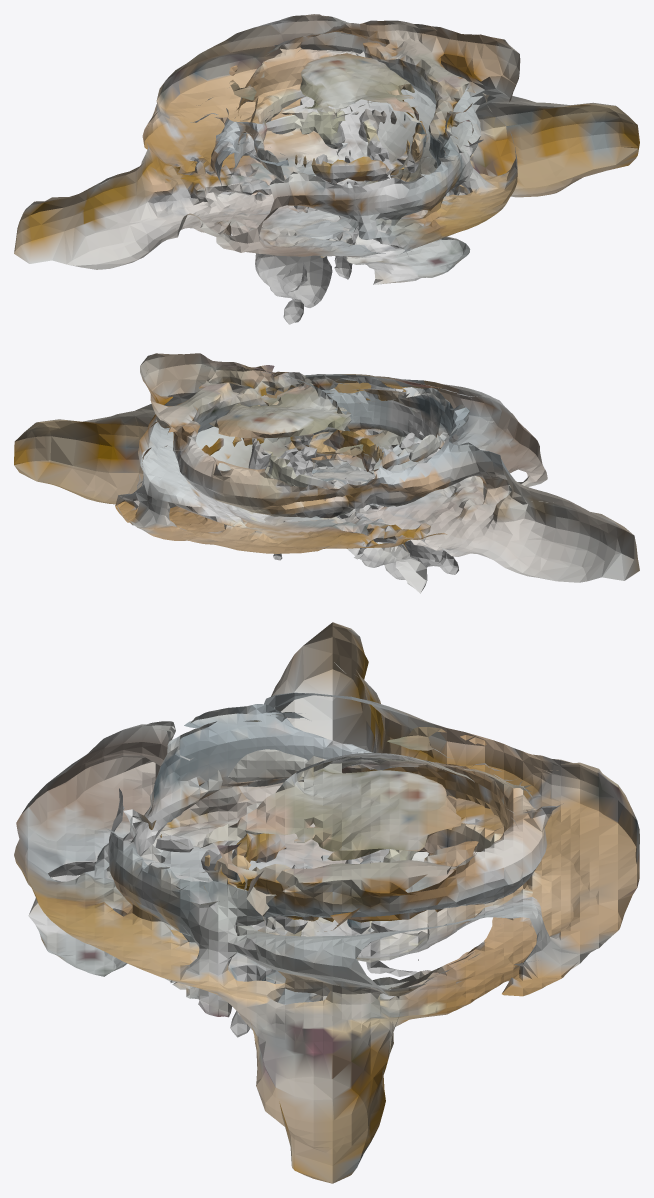
The model's file is roomvid.glb.
3 views of the same model, one above another, from view 1: azimuth 30°, elevation 25°; view 2: azimuth 150°, elevation 25°; view 3: azimuth 270°, elevation 25° (orthographic). The views are drawn at different scales.
Parts seen in each view (by area): view 1: geometry_0; view 2: geometry_0; view 3: geometry_0.
Boxes of the visible parts, bbox=[...] form: geometry_0: bbox=[14, 14, 639, 324]; geometry_0: bbox=[14, 353, 639, 593]; geometry_0: bbox=[14, 622, 639, 1183].
Size of the model in its own units: 22.7 by 6.98 by 13.48.
